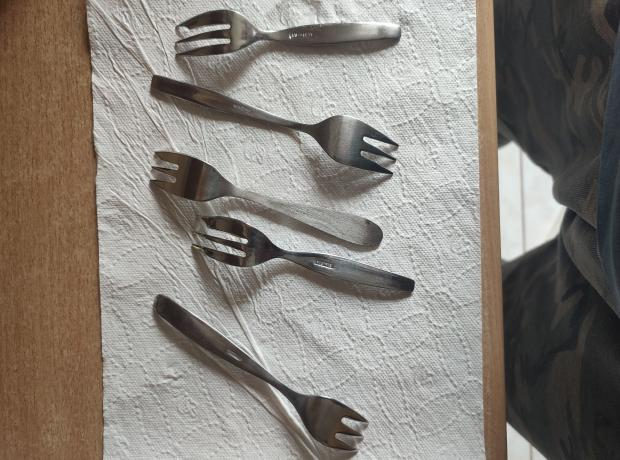metal: (152, 293, 370, 453), (150, 73, 399, 177), (149, 151, 384, 247), (191, 212, 416, 294), (176, 8, 401, 67)
